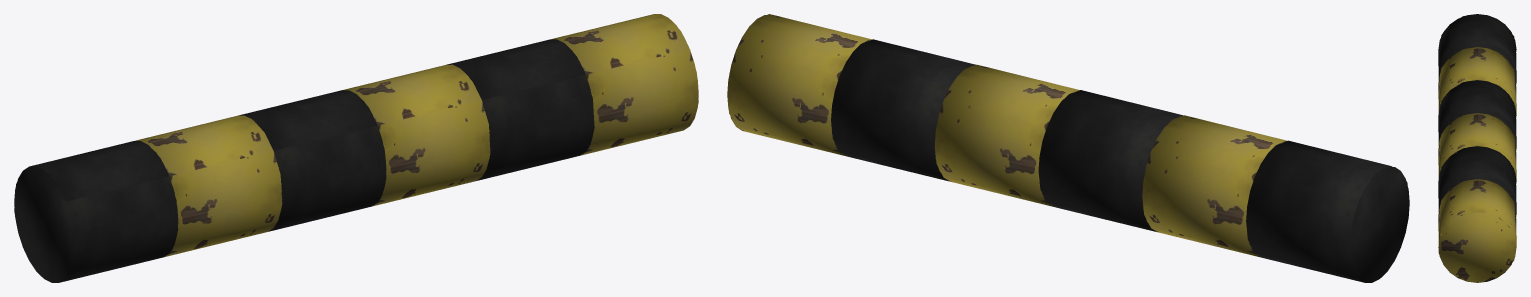
File: ST15_SpeedBreaker.glb
3 renders of one model, left to right at view 1: azimuth 30°, elevation 25°; view 2: azimuth 150°, elevation 25°; view 3: azimuth 270°, elevation 25°, orthographic. The views are drawn at different scales.
Parts seen in each view (by area): view 1: ST15_SpeedBreaker; view 2: ST15_SpeedBreaker; view 3: ST15_SpeedBreaker.
Part boxes in pixels (box(x1,y1,x2,y2)): ST15_SpeedBreaker: box(14, 14, 698, 282); ST15_SpeedBreaker: box(727, 14, 1409, 282); ST15_SpeedBreaker: box(1438, 14, 1516, 282).
Bounding box in the file's own units: 3 × 0.5004 × 0.5.
2 materials, 2 textured.
